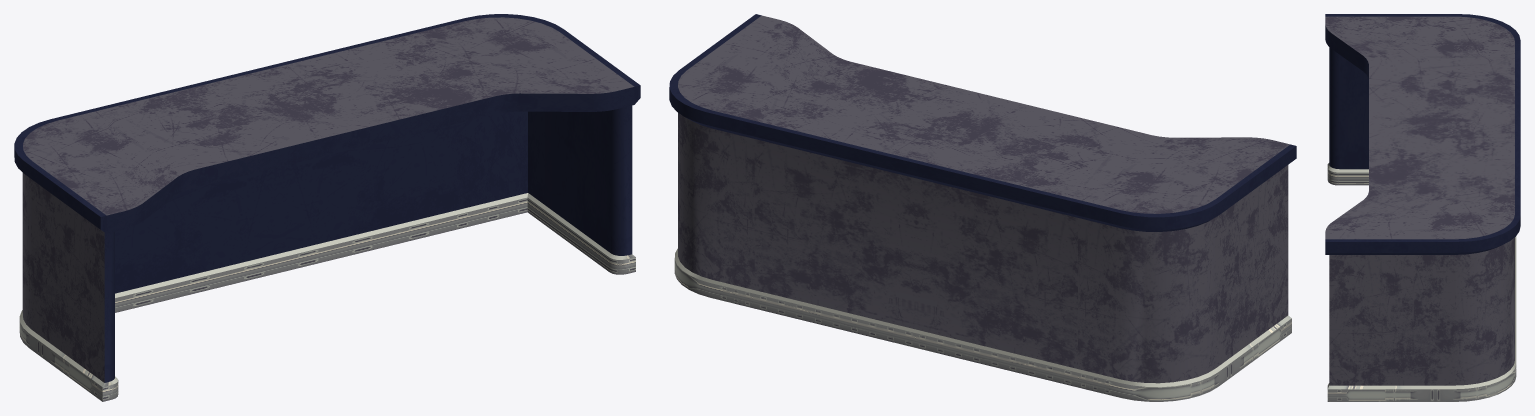
Rendered from Prop_Desk_Medium.gltf.
3 renders of one model, left to right at view 1: azimuth 30°, elevation 25°; view 2: azimuth 150°, elevation 25°; view 3: azimuth 270°, elevation 25°, orthographic. The views are drawn at different scales.
Parts seen in each view (by area): view 1: Prop_Desk_Medium; view 2: Prop_Desk_Medium; view 3: Prop_Desk_Medium.
Part boxes in pixels (x1=…): Prop_Desk_Medium: x1=14, y1=14, x2=640, y2=401; Prop_Desk_Medium: x1=669, y1=14, x2=1296, y2=401; Prop_Desk_Medium: x1=1325, y1=14, x2=1520, y2=401.
Size of the model in its own units: 2.84 by 0.9396 by 1.03.
Materials: 3 (3 with a texture image).
